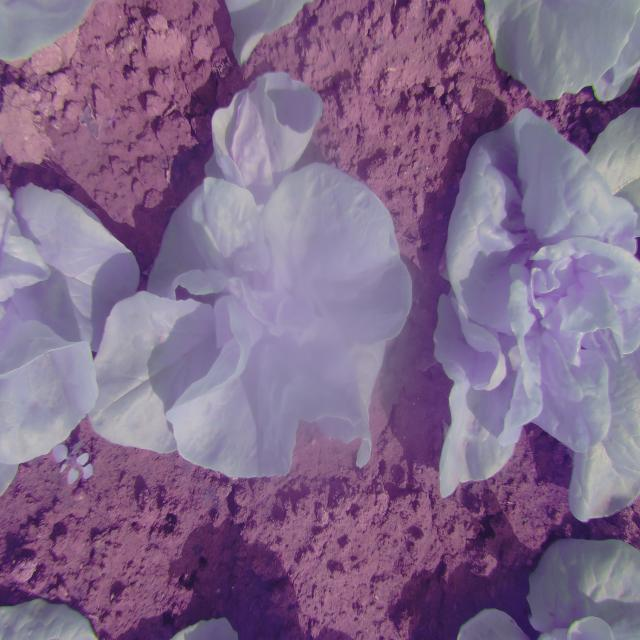vege: (111, 63, 415, 485)
